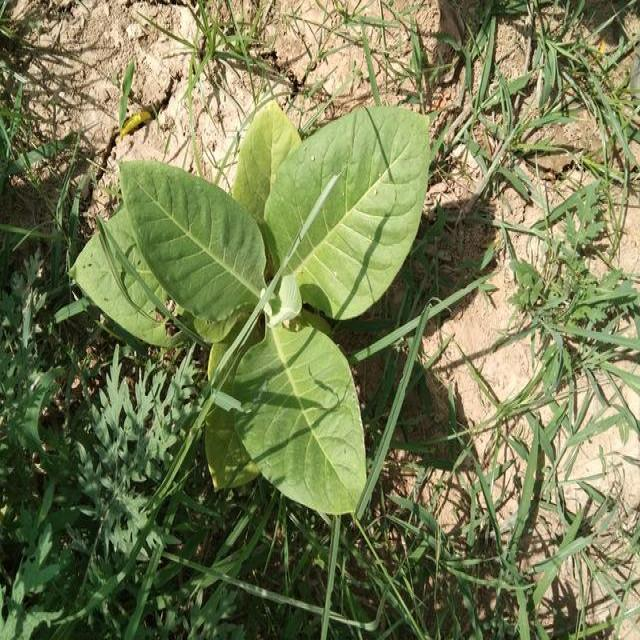crop: (98, 110, 427, 516)
